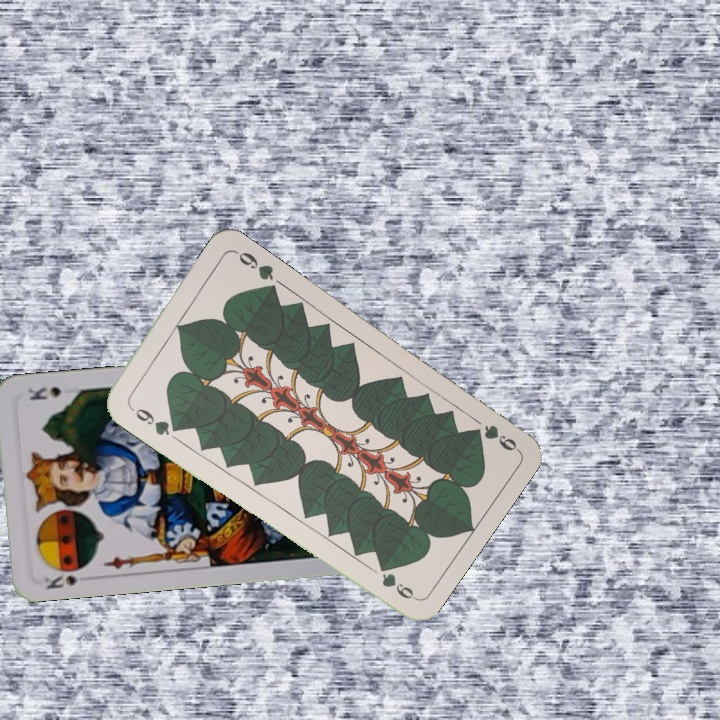G9: (124, 401, 179, 439), (467, 420, 520, 454)
SK: (40, 570, 81, 592)
